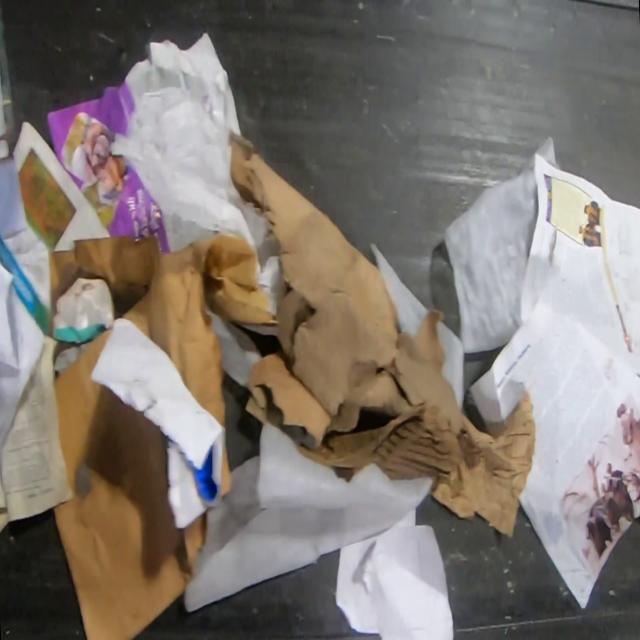cardboard: (230, 127, 461, 482), (54, 323, 211, 640), (122, 234, 277, 429), (428, 396, 537, 538), (49, 237, 159, 321)
